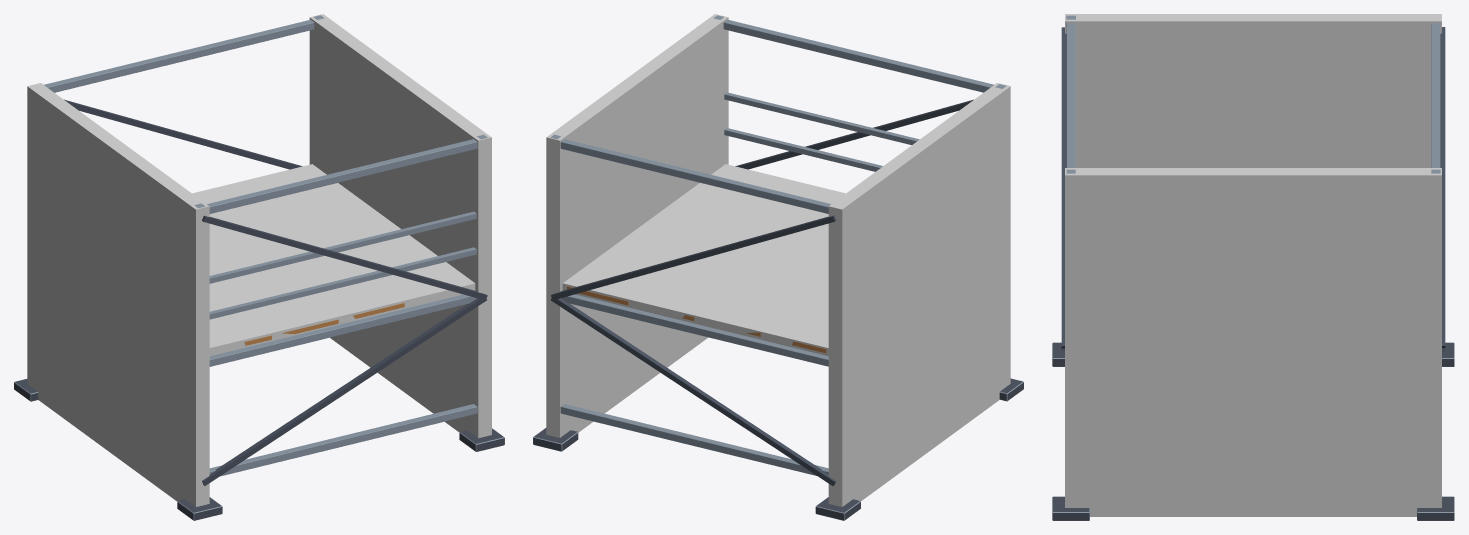
The model's file is prop_scaffold_a.glb.
The picture shows the model from 3 angles, left to right: view 1: azimuth 30°, elevation 25°; view 2: azimuth 150°, elevation 25°; view 3: azimuth 270°, elevation 25°; orthographic projection. The views are drawn at different scales.
Visible parts, largest first — view 1: COL_prop_scaffold_a_1, COL_prop_scaffold_a_2, COL_prop_scaffold_a_3, prop_scaffold_a; view 2: COL_prop_scaffold_a_1, COL_prop_scaffold_a_2, COL_prop_scaffold_a_3, prop_scaffold_a; view 3: COL_prop_scaffold_a_2, COL_prop_scaffold_a_1, prop_scaffold_a.
Part boxes in pixels (x1,y1,x2,y2): COL_prop_scaffold_a_1: [27, 83, 209, 506]; COL_prop_scaffold_a_2: [309, 14, 491, 438]; COL_prop_scaffold_a_3: [192, 164, 475, 356]; prop_scaffold_a: [14, 15, 504, 520]; COL_prop_scaffold_a_1: [828, 83, 1010, 506]; COL_prop_scaffold_a_2: [546, 14, 728, 437]; COL_prop_scaffold_a_3: [562, 164, 845, 356]; prop_scaffold_a: [533, 15, 1023, 520]; COL_prop_scaffold_a_2: [1065, 168, 1441, 516]; COL_prop_scaffold_a_1: [1065, 14, 1441, 167]; prop_scaffold_a: [1052, 15, 1454, 520].
Bounding box in the file's own units: 3.2 × 3 × 3.2.
